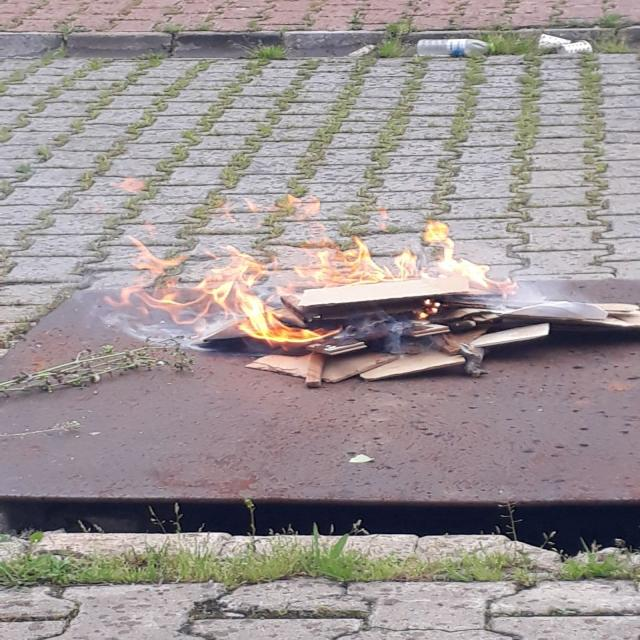fire: (82, 219, 555, 370), (110, 168, 381, 214)
